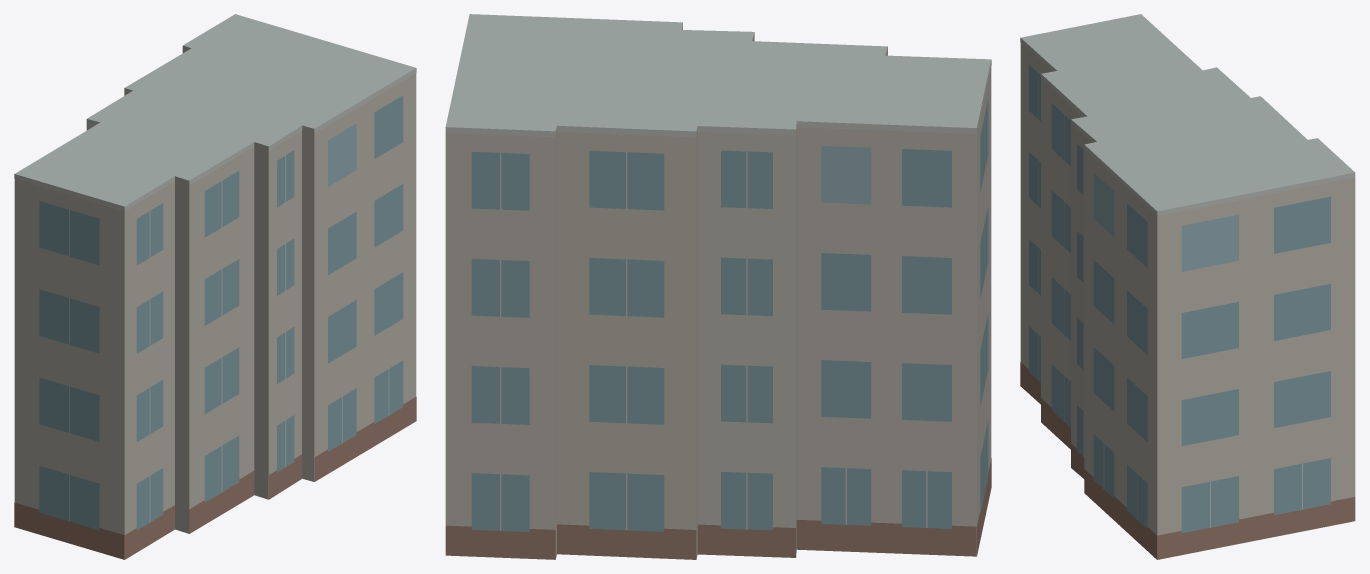
File: survey-upis-33043209.glb
3 renders of one model, left to right at view 1: azimuth 30°, elevation 25°; view 2: azimuth 150°, elevation 25°; view 3: azimuth 270°, elevation 25°, orthographic. The views are drawn at different scales.
Parts seen in each view (by area): view 1: survey-upis-33043209.tmp; view 2: survey-upis-33043209.tmp; view 3: survey-upis-33043209.tmp.
Boxes of the visible parts, x1=… form: survey-upis-33043209.tmp: x1=14, y1=14, x2=416, y2=559; survey-upis-33043209.tmp: x1=445, y1=14, x2=991, y2=559; survey-upis-33043209.tmp: x1=1020, y1=14, x2=1355, y2=559.
Bounding box in the file's own units: 21.33 × 17.55 × 15.3.
